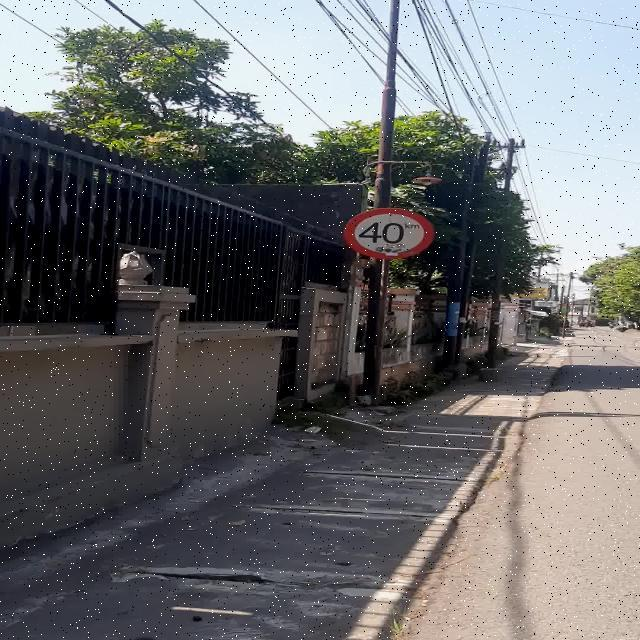Kecepatan Maks. 40 km: (342, 208, 434, 259)
